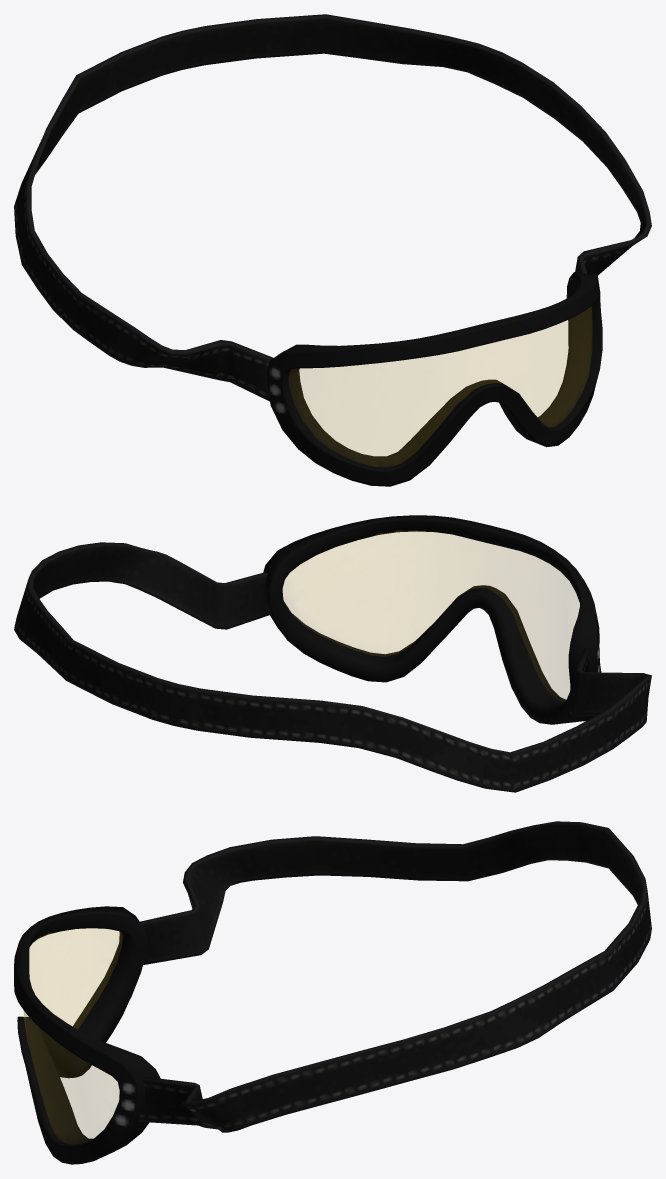
The model's file is mask_onli.fbx.
3 renders of one model, top to bottom at view 1: azimuth 30°, elevation 25°; view 2: azimuth 150°, elevation 25°; view 3: azimuth 270°, elevation 25°, orthographic.
Parts seen in each view (by area): view 1: mask_onli; view 2: mask_onli; view 3: mask_onli.
Part boxes in pixels (x1=…): mask_onli: x1=14, y1=14, x2=651, y2=486; mask_onli: x1=14, y1=515, x2=651, y2=792; mask_onli: x1=14, y1=821, x2=651, y2=1164.
Bounding box in the file's own units: 0.1657 × 0.0652 × 0.1673.
